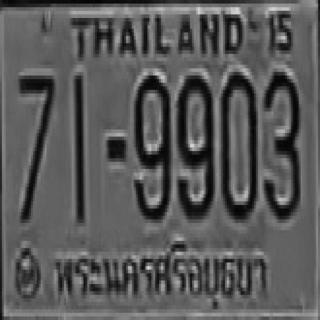N00: (219, 68, 256, 216)
N01: (72, 74, 83, 221)
N03: (262, 68, 299, 216)
N07: (18, 72, 52, 219)
N09: (176, 72, 212, 216), (134, 72, 169, 219)
P03: (51, 237, 274, 307)
